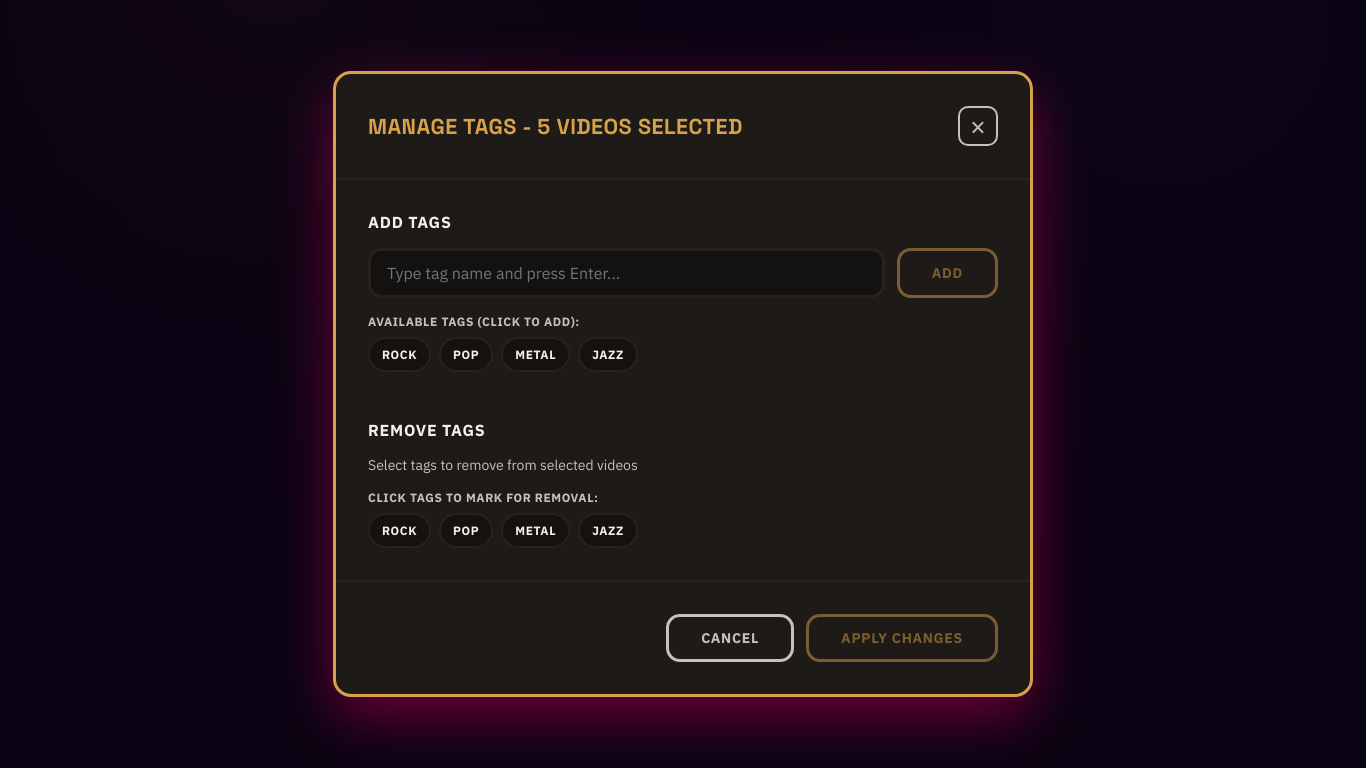
it: BulkTagModal › adding tags › adds custom tag via input
This screenshot has width=1366, height=768.
Type "NewTag" into the field with placeholder "Type tag name and press Enter..." at (626, 273), box [368, 248, 885, 298]
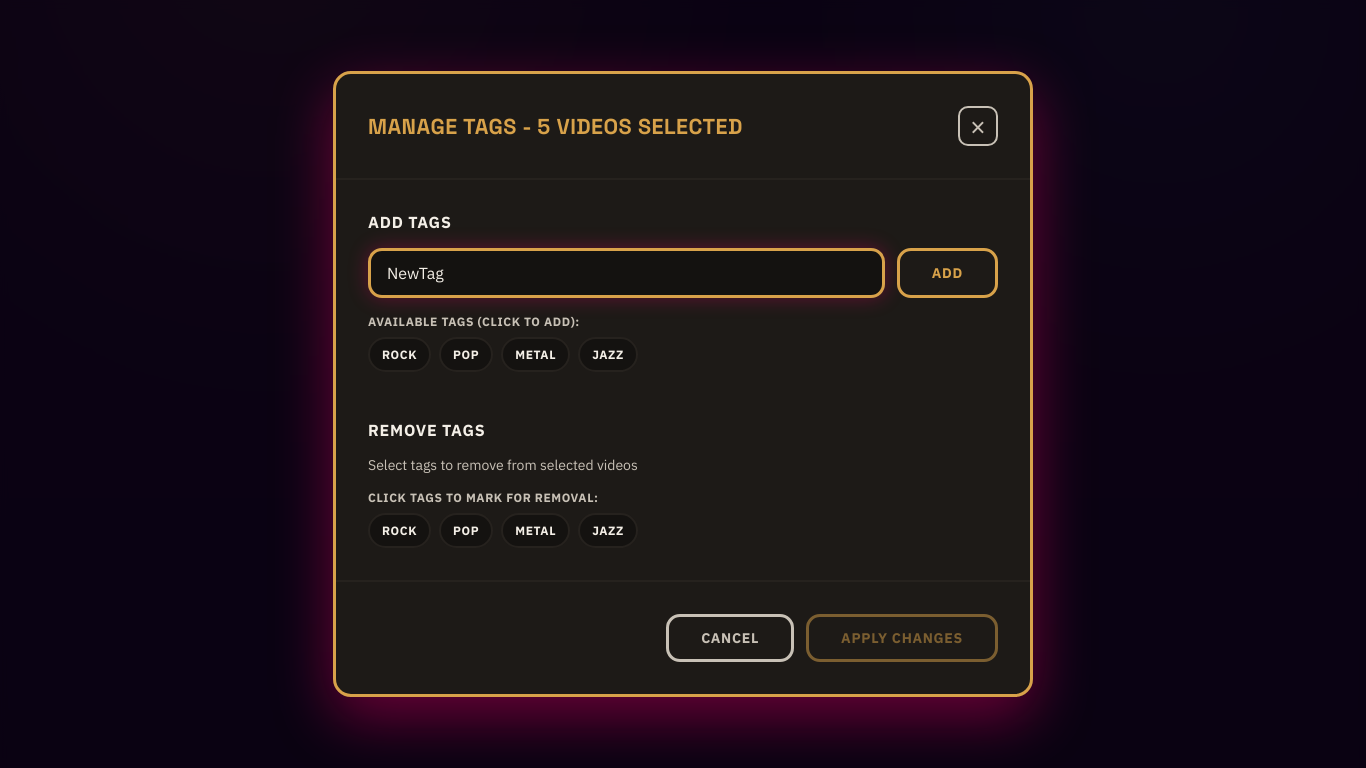
Click the button "Add" at (947, 273), box [897, 248, 998, 298]
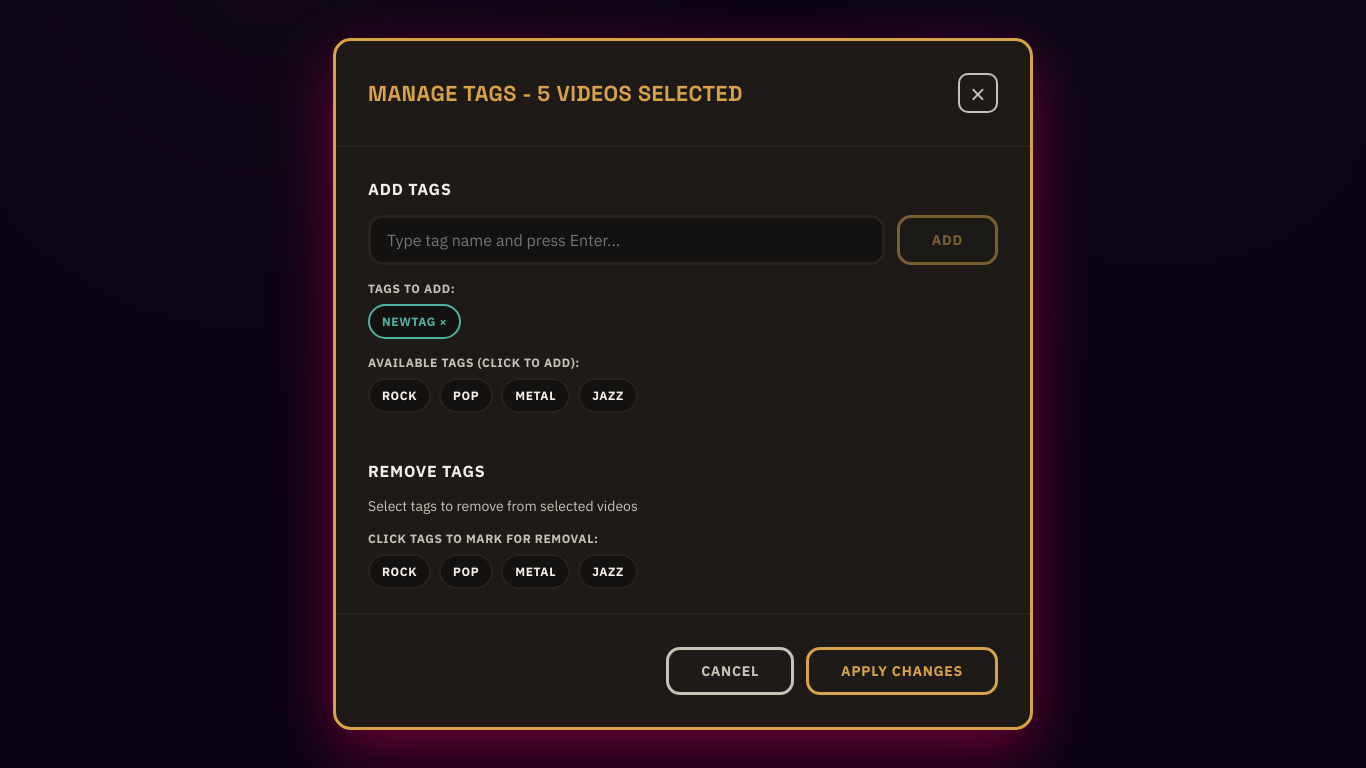
Result: the button "NewTag ×" is shown at [368, 304, 461, 339]
